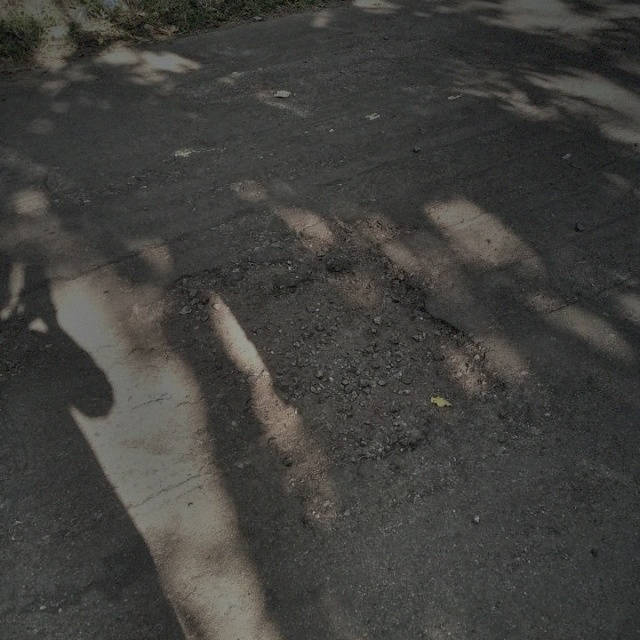pothole: (157, 242, 511, 478)
